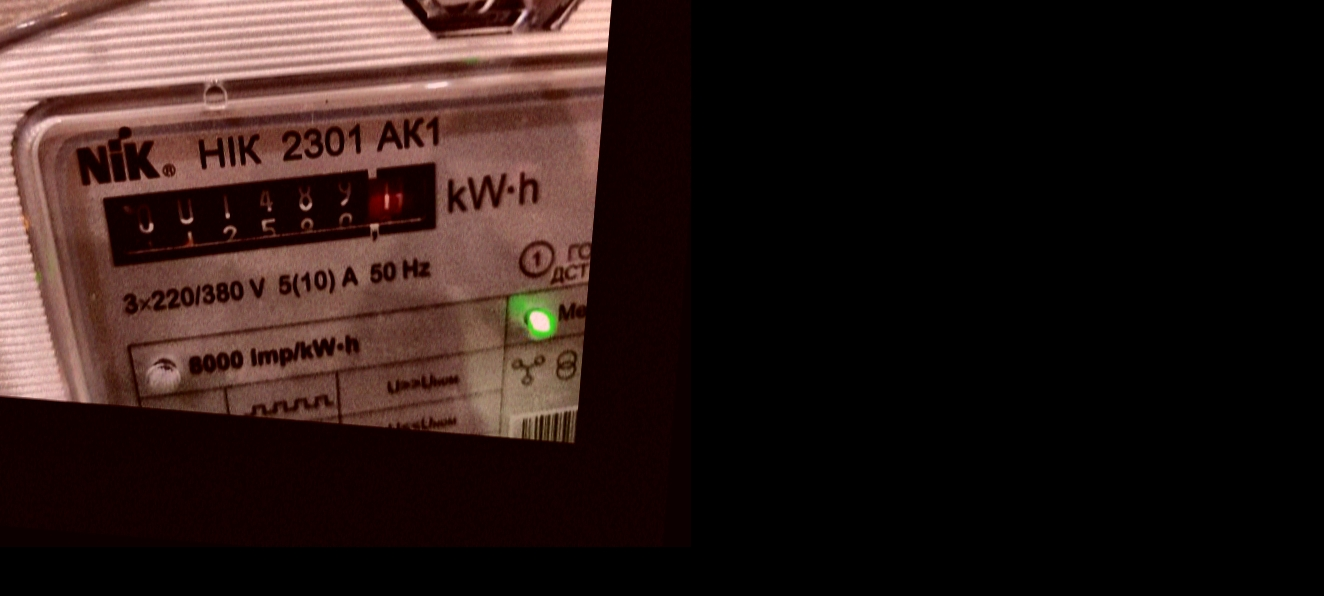0: (169, 189, 198, 227), (130, 200, 157, 237)
1: (373, 174, 396, 213), (213, 189, 236, 221)
4: (252, 182, 276, 215)
8: (292, 177, 316, 215)
9: (332, 175, 354, 208)
screen: (83, 125, 469, 306)
